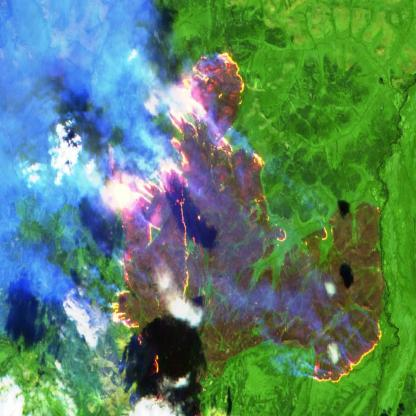fire: (103, 50, 383, 416)
